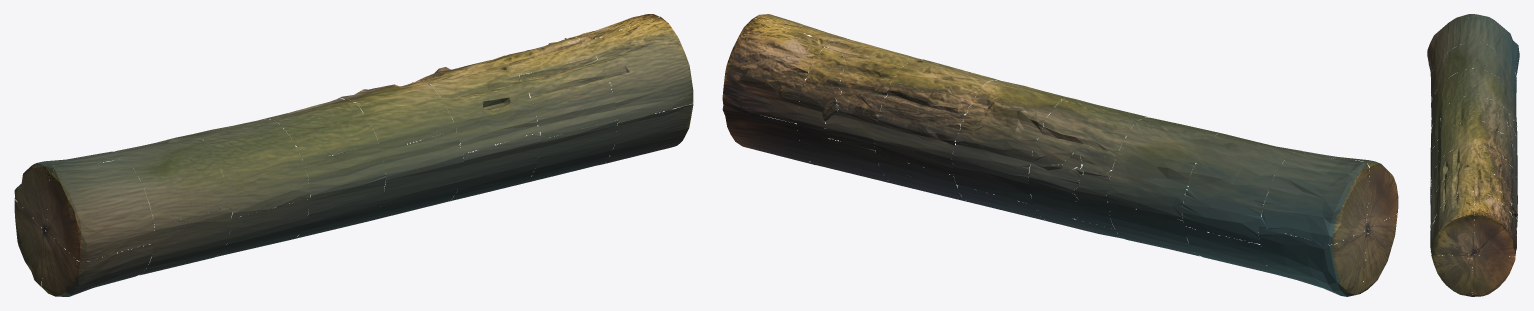
File: tronco.glb
3 views of the same model, side by side, from view 1: azimuth 30°, elevation 25°; view 2: azimuth 150°, elevation 25°; view 3: azimuth 270°, elevation 25° (orthographic). The views are drawn at different scales.
Parts seen in each view (by area): view 1: tripo_node_19dee3d4-c9ce-4d32-bc47-605ae6bd4056; view 2: tripo_node_19dee3d4-c9ce-4d32-bc47-605ae6bd4056; view 3: tripo_node_19dee3d4-c9ce-4d32-bc47-605ae6bd4056.
Part boxes in pixels (<box>): tripo_node_19dee3d4-c9ce-4d32-bc47-605ae6bd4056: <box>14,14,693,296</box>; tripo_node_19dee3d4-c9ce-4d32-bc47-605ae6bd4056: <box>722,14,1398,296</box>; tripo_node_19dee3d4-c9ce-4d32-bc47-605ae6bd4056: <box>1427,14,1519,296</box>.
Bounding box in the file's own units: 1 × 0.1994 × 0.1947.
1 material, 1 textured.
